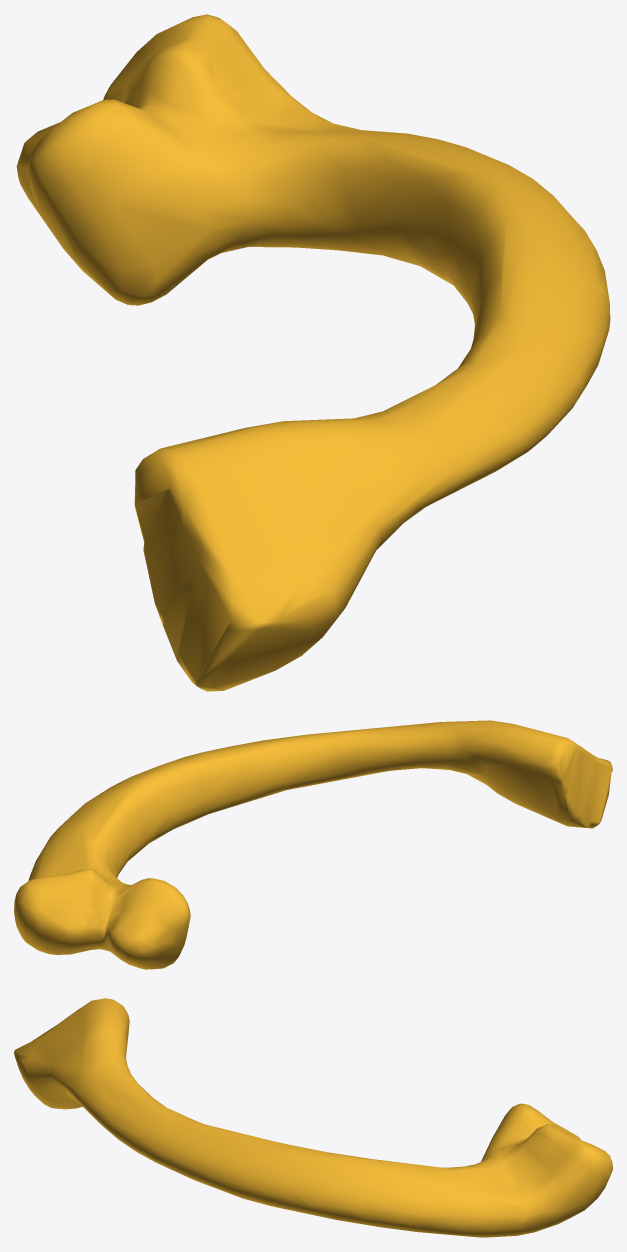
Rendered from nervoso-optic-tract-l.glb.
3 renders of one model, top to bottom at view 1: azimuth 30°, elevation 25°; view 2: azimuth 150°, elevation 25°; view 3: azimuth 270°, elevation 25°, orthographic. The views are drawn at different scales.
Visible parts, largest first — view 1: Optic tract.l; view 2: Optic tract.l; view 3: Optic tract.l.
Boxes of the visible parts, left/top/right/bottom form: Optic tract.l: left=16, top=14, right=610, bottom=691; Optic tract.l: left=14, top=720, right=612, bottom=969; Optic tract.l: left=14, top=998, right=612, bottom=1237.
Size of the model in its own units: 0.0241 by 0.00778 by 0.0367.
